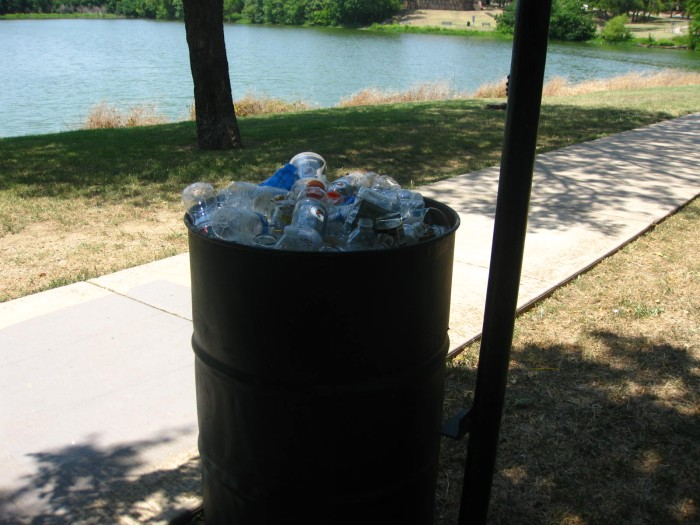bottle: (287, 179, 333, 246), (212, 205, 273, 244), (181, 181, 216, 231)
